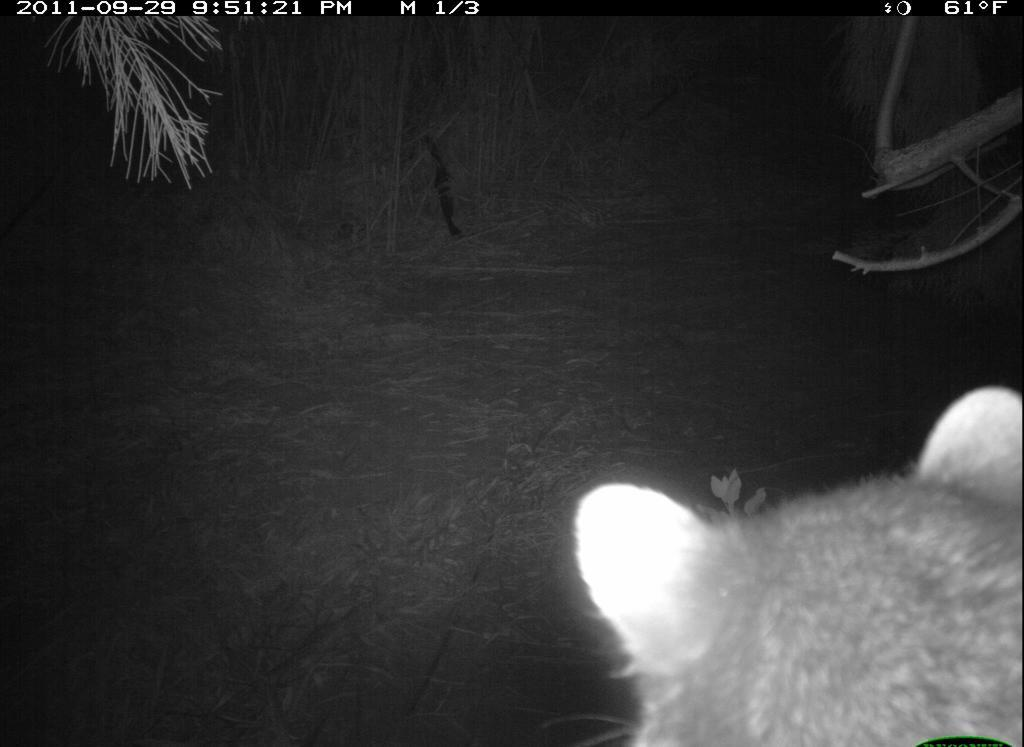raccoon: (565, 385, 1021, 747)
